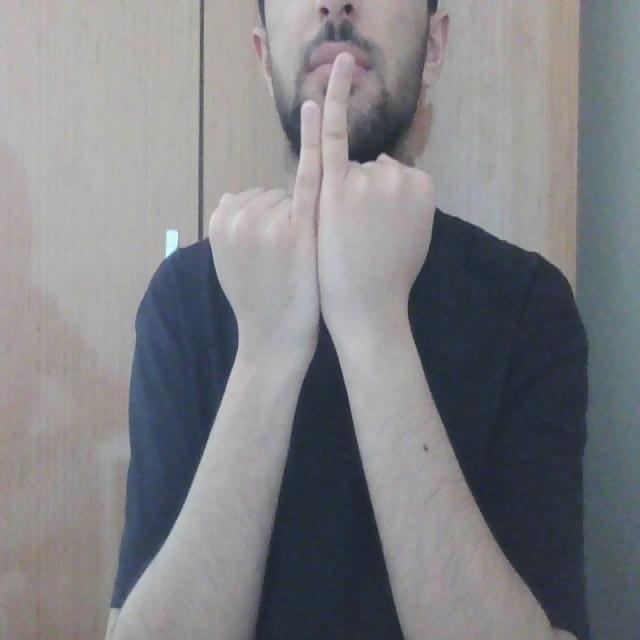Kardes: (203, 46, 440, 354)
